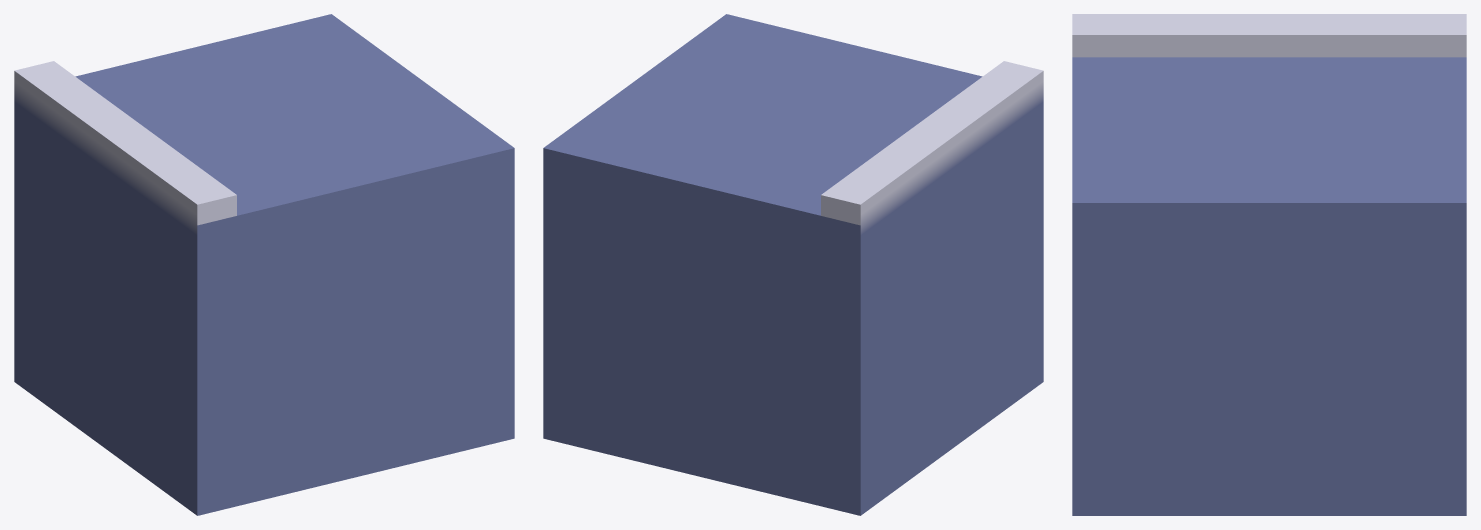
The model's file is GroundSide_1.fbx.
3 views of the same model, side by side, from view 1: azimuth 30°, elevation 25°; view 2: azimuth 150°, elevation 25°; view 3: azimuth 270°, elevation 25° (orthographic). The views are drawn at different scales.
Parts seen in each view (by area): view 1: GroundSide_1; view 2: GroundSide_1; view 3: GroundSide_1.
Boxes of the visible parts, box(x1,y1,x2,y2) form: GroundSide_1: box(14, 14, 514, 515); GroundSide_1: box(543, 14, 1043, 515); GroundSide_1: box(1072, 14, 1466, 515).
Bounding box in the file's own units: 16 × 15 × 16.
1 material, 1 textured.
